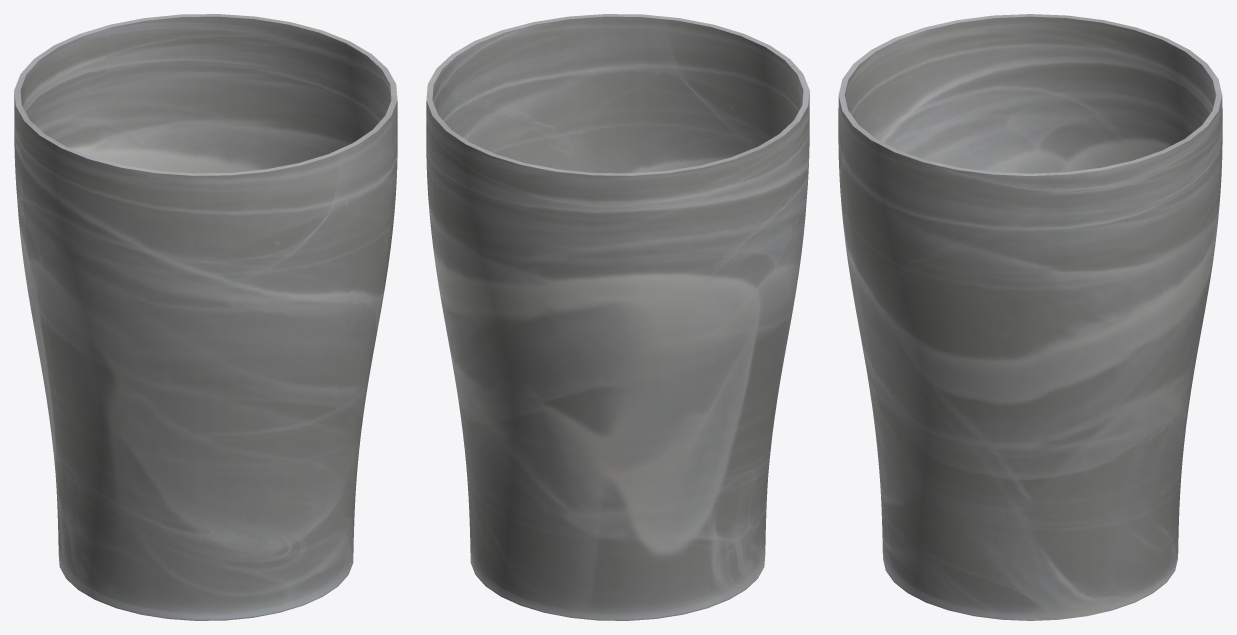
Rendered from pot.FBX.
The picture shows the model from 3 angles, left to right: view 1: azimuth 30°, elevation 25°; view 2: azimuth 150°, elevation 25°; view 3: azimuth 270°, elevation 25°; orthographic projection.
Visible parts, largest first — view 1: pot; view 2: pot; view 3: pot.
Part boxes in pixels (box(x1,y1,x2,y2)): pot: box(14, 14, 397, 620); pot: box(426, 14, 809, 620); pot: box(838, 14, 1222, 620).
Bounding box in the file's own units: 12.77 × 17 × 12.77.
